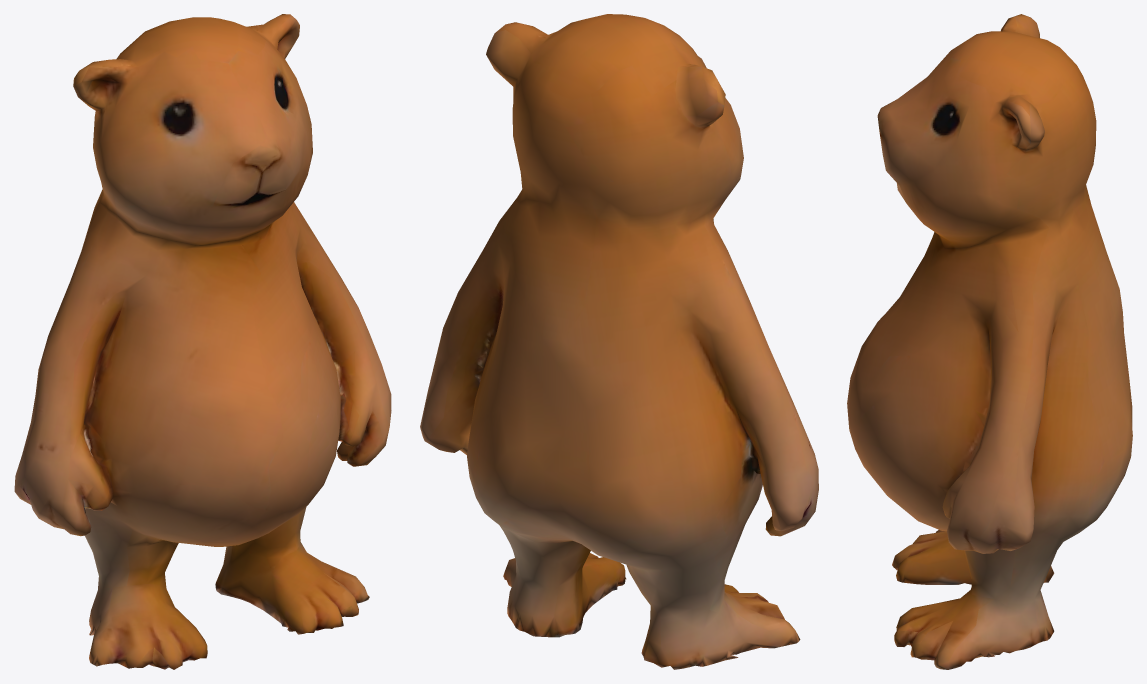
Rendered from mob_arctic_lemming.glb.
The picture shows the model from 3 angles, left to right: view 1: azimuth 30°, elevation 25°; view 2: azimuth 150°, elevation 25°; view 3: azimuth 270°, elevation 25°; orthographic projection. The views are drawn at different scales.
Parts seen in each view (by area): view 1: geometry_0; view 2: geometry_0; view 3: geometry_0.
Boxes of the visible parts, left/top/right/bottom form: geometry_0: left=14, top=14, right=391, bottom=669; geometry_0: left=420, top=14, right=818, bottom=669; geometry_0: left=847, top=14, right=1132, bottom=669.
Size of the model in its own units: 0.8563 by 1.32 by 0.6043.
1 material, 1 textured.
